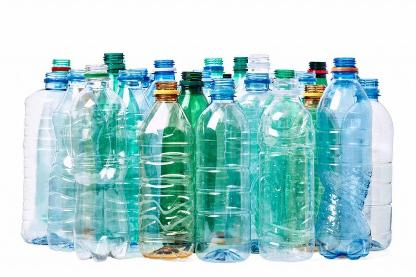Plastic Bottle: (314, 56, 372, 260), (193, 73, 253, 262), (24, 68, 84, 254), (256, 83, 316, 262), (138, 79, 197, 260), (340, 76, 396, 252)
